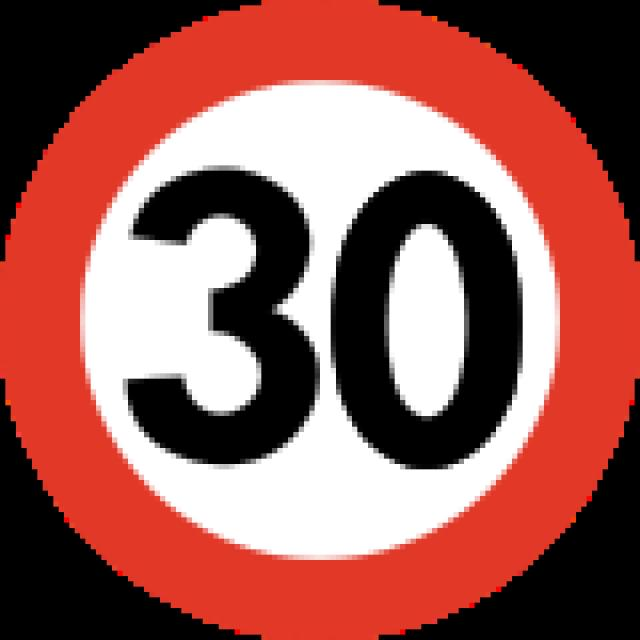Speed Limit -30-: (120, 151, 533, 472)
